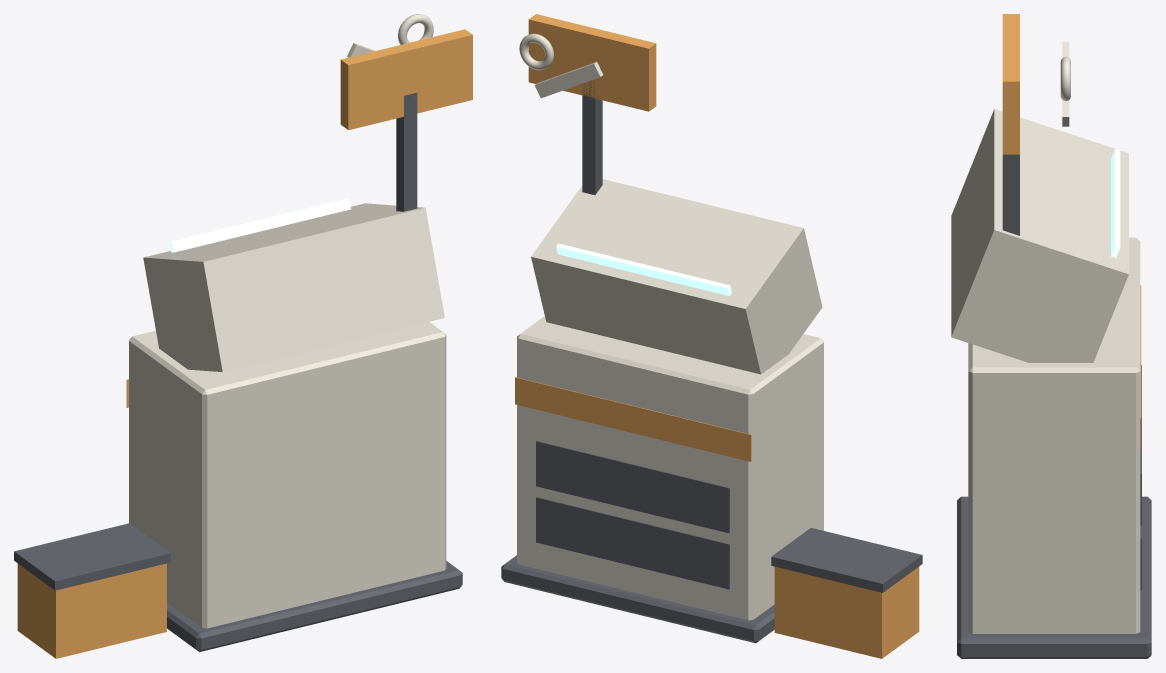
Rendered from WorkshopTerminal.fbx.
3 renders of one model, left to right at view 1: azimuth 30°, elevation 25°; view 2: azimuth 150°, elevation 25°; view 3: azimuth 270°, elevation 25°, orthographic. The views are drawn at different scales.
Parts seen in each view (by area): view 1: WorkshopTerminal; view 2: WorkshopTerminal; view 3: WorkshopTerminal.
Boxes of the visible parts, left/top/right/bottom form: WorkshopTerminal: left=14, top=14, right=472, bottom=658; WorkshopTerminal: left=501, top=14, right=922, bottom=658; WorkshopTerminal: left=951, top=14, right=1151, bottom=658.
Bounding box in the file's own units: 1.84 × 2.32 × 0.7002.
